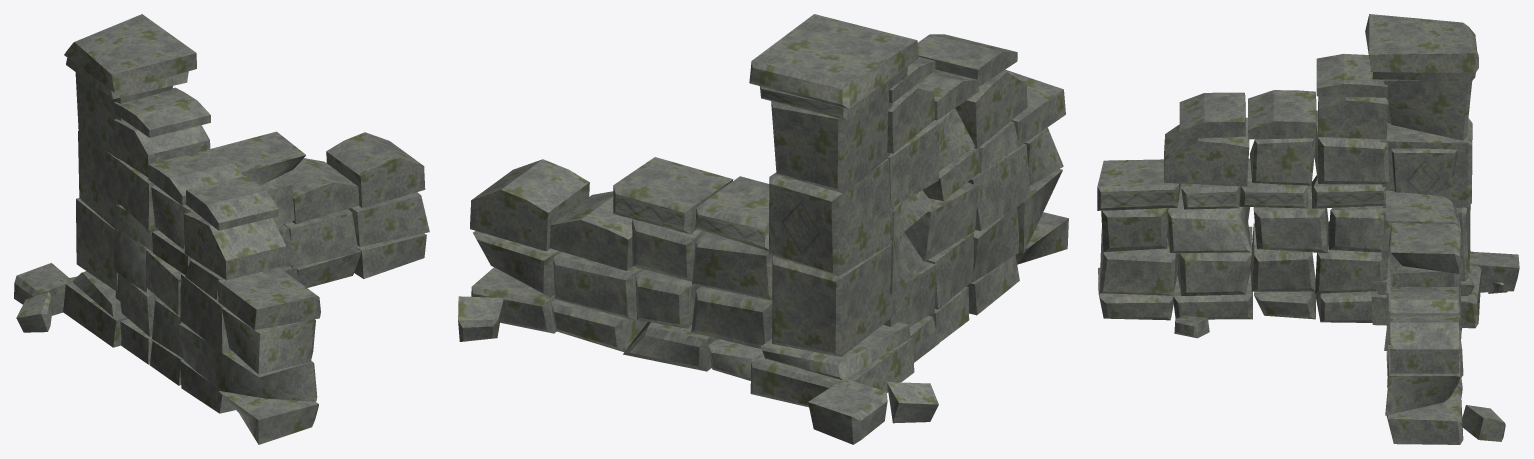
File: C_L_Shaped_Ruin_Corner.obj
3 renders of one model, left to right at view 1: azimuth 30°, elevation 25°; view 2: azimuth 150°, elevation 25°; view 3: azimuth 270°, elevation 25°, orthographic. The views are drawn at different scales.
Parts seen in each view (by area): view 1: C_L_Shaped_Ruin_Corner_Stone_Slate, C_L_Shaped_Ruin_Corner_Stone_Shadow, C_L_Shaped_Ruin_Corner_Stone_Warm, C_L_Shaped_Ruin_Corner_Stone_Pale; view 2: C_L_Shaped_Ruin_Corner_Stone_Slate, C_L_Shaped_Ruin_Corner_Stone_Shadow, C_L_Shaped_Ruin_Corner_Stone_Pale, C_L_Shaped_Ruin_Corner_Stone_Warm, C_L_Shaped_Ruin_Corner_Carved_Diamond, C_L_Shaped_Ruin_Corner_Carved_Band; view 3: C_L_Shaped_Ruin_Corner_Stone_Slate, C_L_Shaped_Ruin_Corner_Stone_Shadow, C_L_Shaped_Ruin_Corner_Stone_Warm, C_L_Shaped_Ruin_Corner_Stone_Pale, C_L_Shaped_Ruin_Corner_Carved_Band, C_L_Shaped_Ruin_Corner_Carved_Diamond.
Boxes of the visible parts, box(x1,y1,x2,y2) form: C_L_Shaped_Ruin_Corner_Stone_Slate: box(60, 14, 429, 444); C_L_Shaped_Ruin_Corner_Stone_Shadow: box(16, 87, 425, 401); C_L_Shaped_Ruin_Corner_Stone_Warm: box(14, 58, 315, 413); C_L_Shaped_Ruin_Corner_Stone_Pale: box(75, 72, 426, 336); C_L_Shaped_Ruin_Corner_Stone_Slate: box(458, 14, 1068, 407); C_L_Shaped_Ruin_Corner_Stone_Shadow: box(470, 57, 1062, 423); C_L_Shaped_Ruin_Corner_Stone_Pale: box(471, 90, 936, 380); C_L_Shaped_Ruin_Corner_Stone_Warm: box(691, 67, 1063, 444); C_L_Shaped_Ruin_Corner_Carved_Diamond: box(770, 184, 832, 272); C_L_Shaped_Ruin_Corner_Carved_Band: box(615, 89, 843, 247); C_L_Shaped_Ruin_Corner_Stone_Slate: box(1097, 14, 1506, 441); C_L_Shaped_Ruin_Corner_Stone_Shadow: box(1099, 54, 1470, 373); C_L_Shaped_Ruin_Corner_Stone_Warm: box(1101, 72, 1519, 319); C_L_Shaped_Ruin_Corner_Stone_Pale: box(1314, 79, 1472, 444); C_L_Shaped_Ruin_Corner_Carved_Band: box(1100, 189, 1464, 268); C_L_Shaped_Ruin_Corner_Carved_Diamond: box(1394, 135, 1472, 196).
Size of the model in its own units: 3.6 by 2.49 by 3.44.
6 materials, 6 textured.
